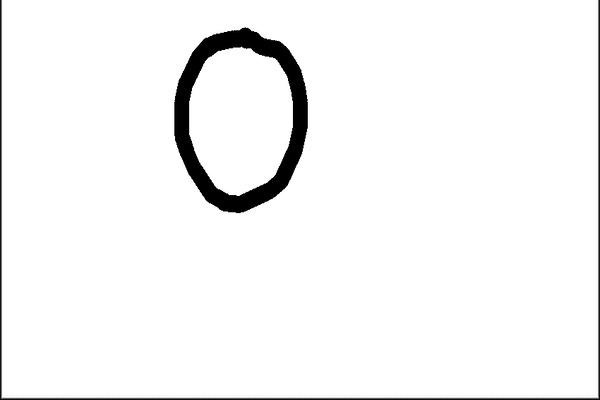O: (151, 10, 325, 227)
